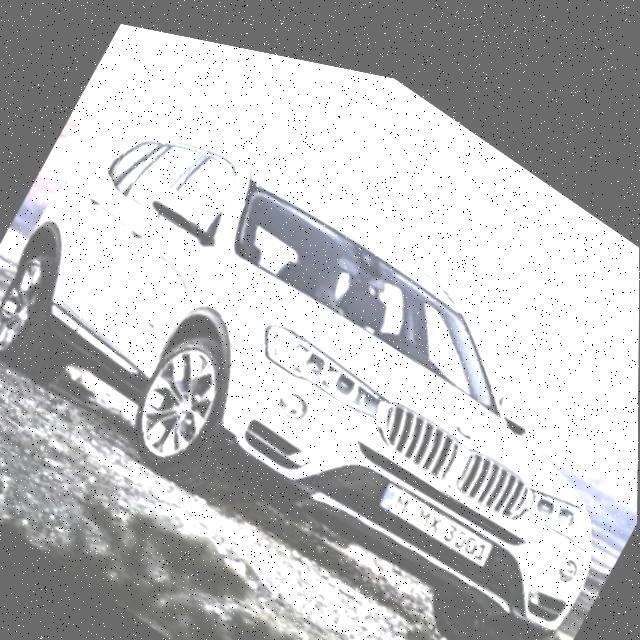license_plate: (376, 457, 494, 558)
